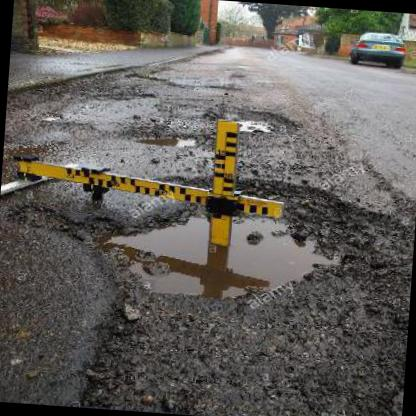pothole: (78, 161, 416, 356), (203, 100, 300, 138), (127, 127, 202, 149)
